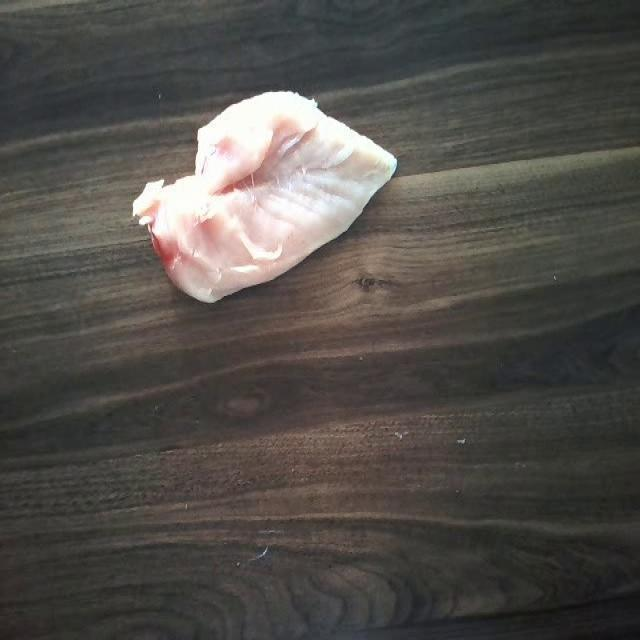leg: (137, 84, 395, 298)
